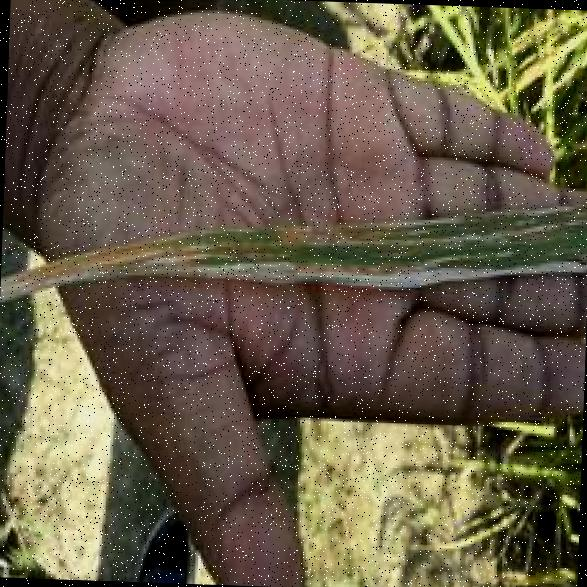Bacteria_Leaf_Blight: (22, 181, 580, 292)
